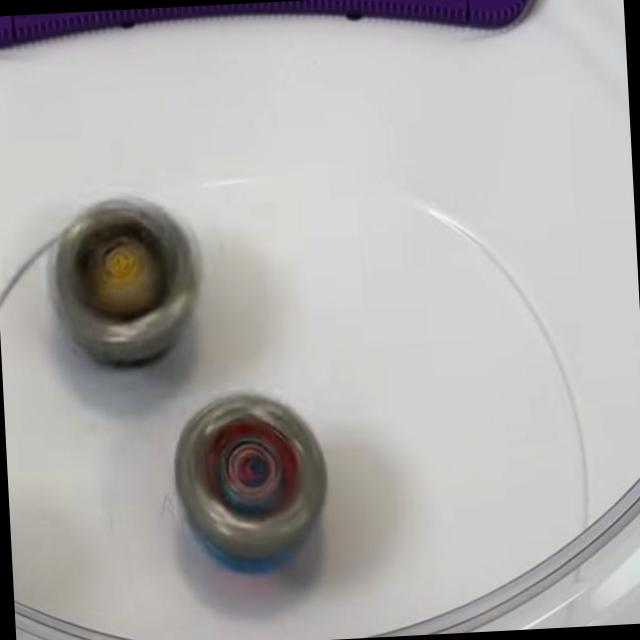Beyblade: (44, 182, 213, 374), (169, 386, 333, 574)
